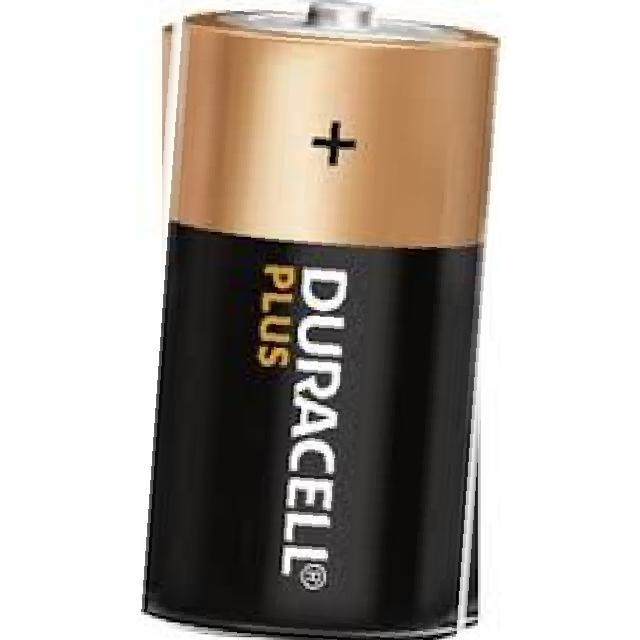Battery: (139, 1, 496, 640)
